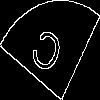C: (24, 25, 66, 85)
